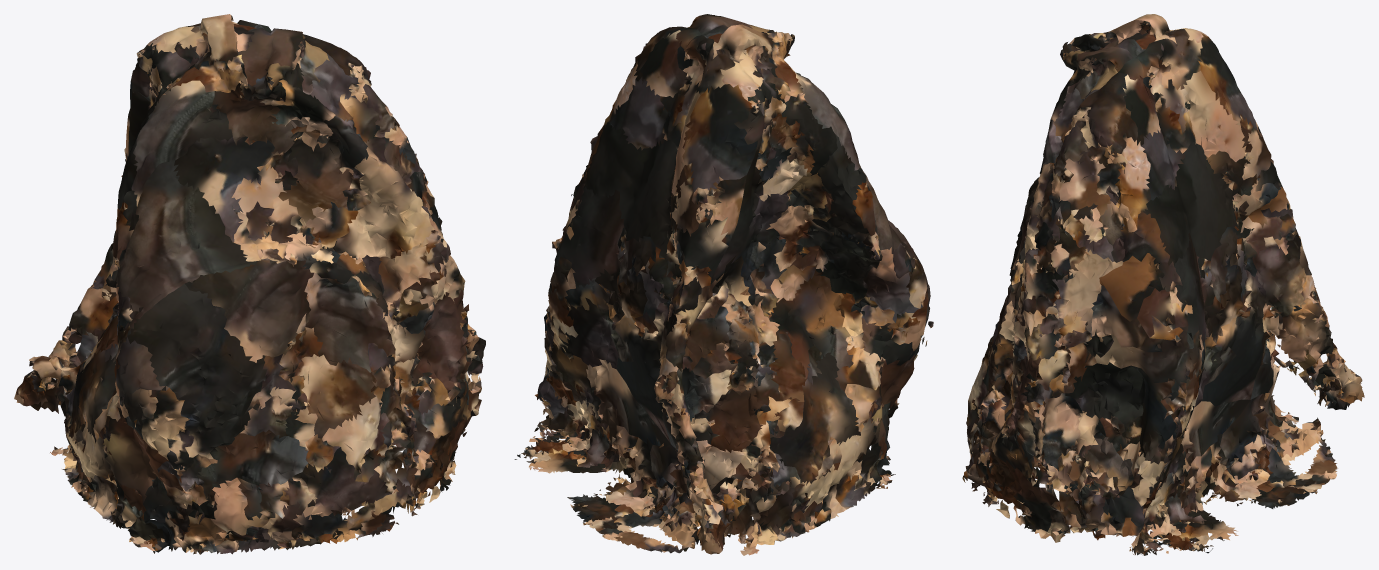
3 views of the same model, side by side, from view 1: azimuth 30°, elevation 25°; view 2: azimuth 150°, elevation 25°; view 3: azimuth 270°, elevation 25° (orthographic). The views are drawn at different scales.
Visible parts, largest first — view 1: rucksack; view 2: rucksack; view 3: rucksack.
Part boxes in pixels (x1,y1,x2,y2): rucksack: [14, 14, 485, 554]; rucksack: [514, 14, 933, 555]; rucksack: [962, 14, 1364, 555].
Size of the model in its own units: 0.3772 by 0.4599 by 0.3745.
Materials: 1 (1 with a texture image).
